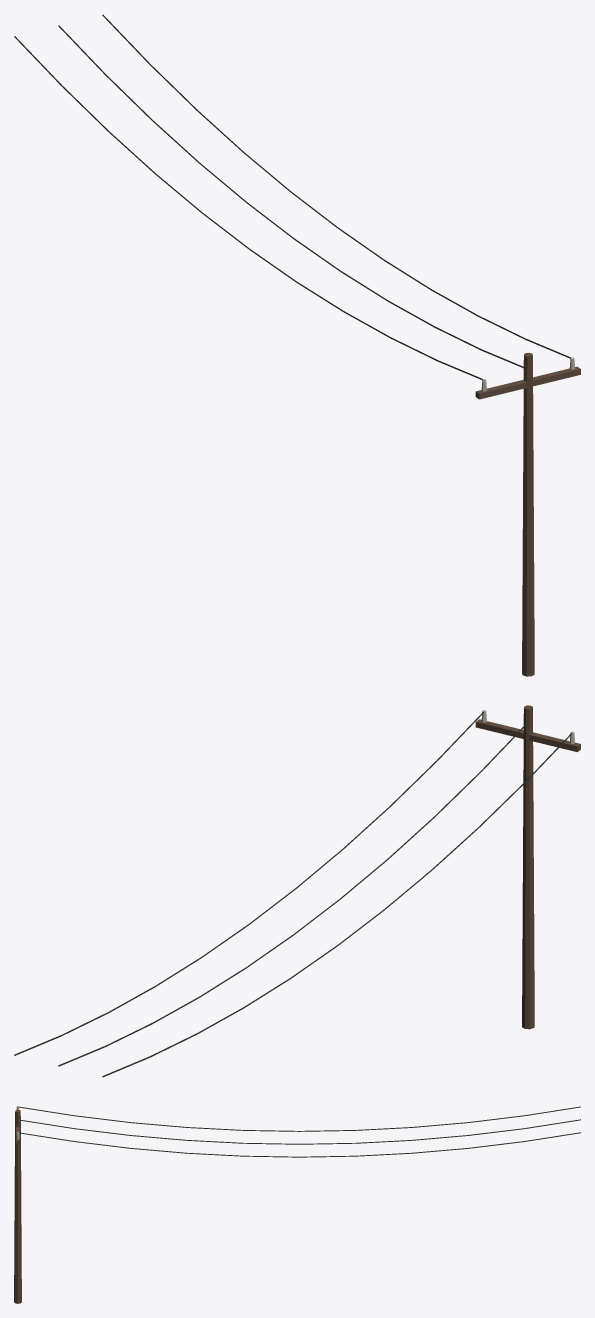
Rendered from pole.glb.
3 renders of one model, top to bottom at view 1: azimuth 30°, elevation 25°; view 2: azimuth 150°, elevation 25°; view 3: azimuth 270°, elevation 25°, orthographic. The views are drawn at different scales.
Parts seen in each view (by area): view 1: pole; view 2: pole; view 3: pole.
Part boxes in pixels (x1=…): pole: x1=14, y1=14, x2=580, y2=676; pole: x1=14, y1=705, x2=580, y2=1077; pole: x1=14, y1=1106, x2=580, y2=1303.
Bounding box in the file's own units: 3 × 9 × 24.17.
